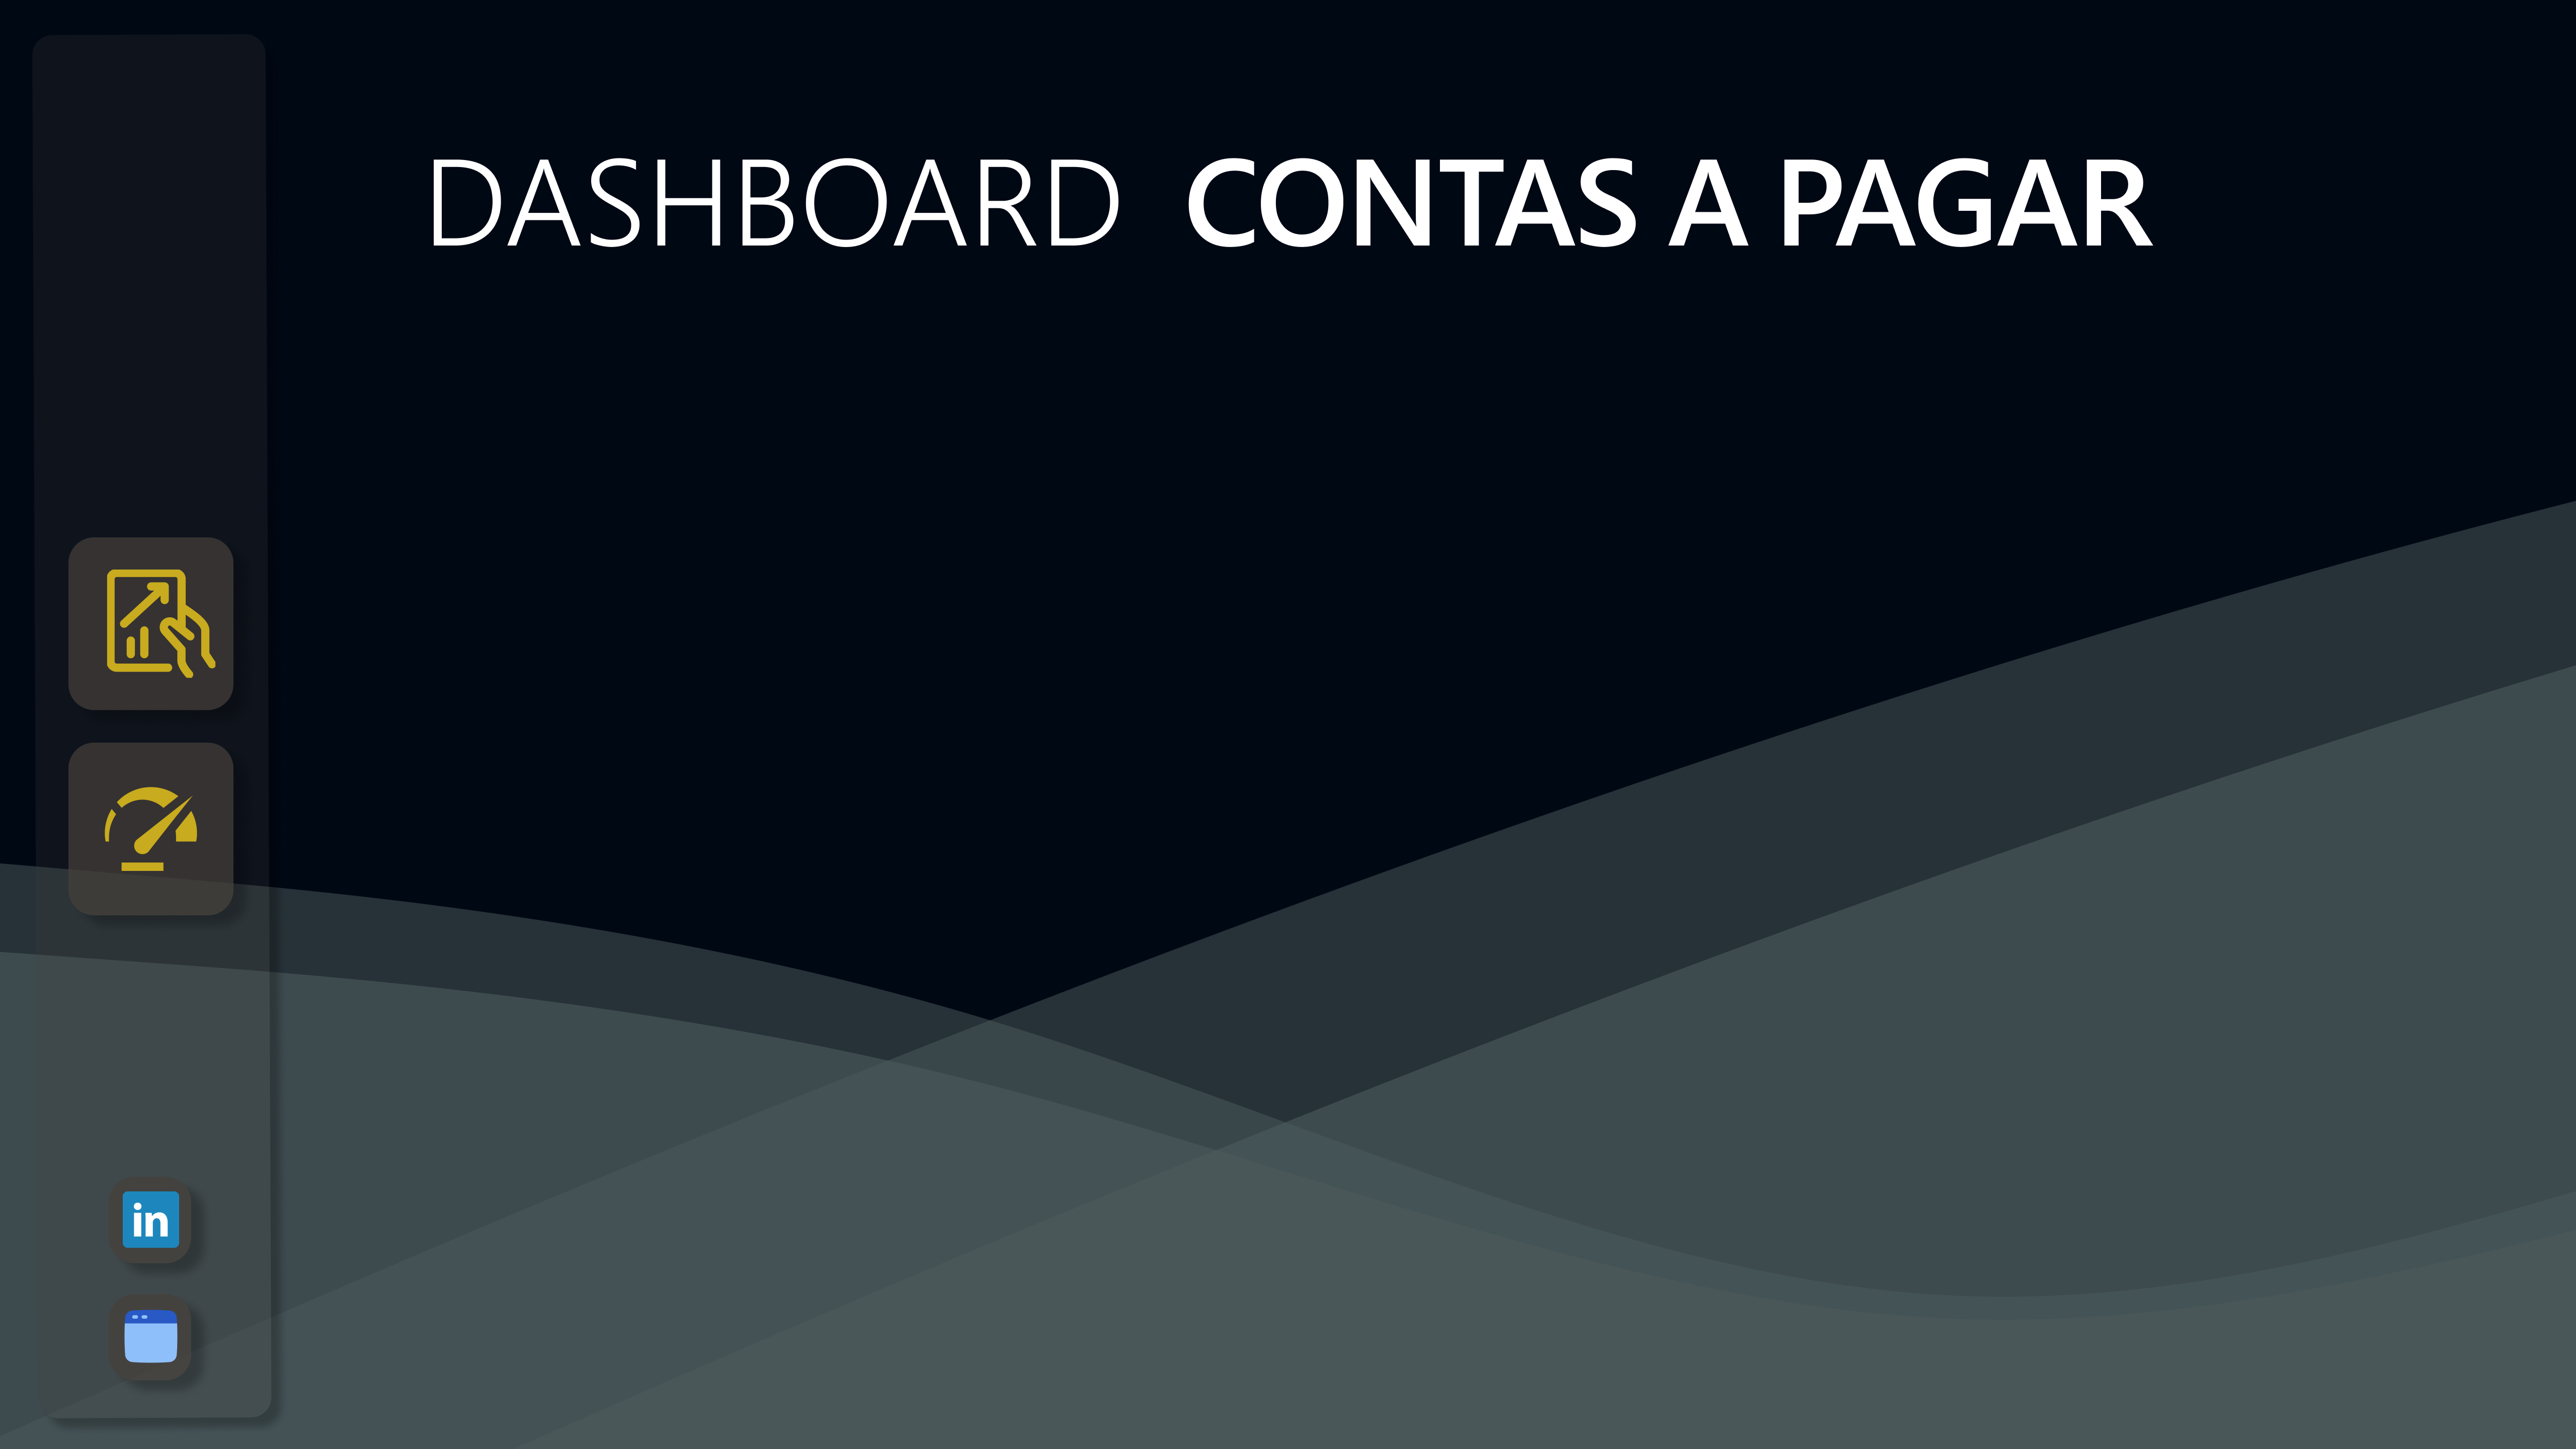

The page's visual inventory and layout, read from the dashboard file:
{"tool":"powerbi","page":{"name":"Home","canvas":[1280,720],"ordinal":0},"visuals":[{"type":"actionButton","box":[31.8,265.8,86.8,85.8],"z":0},{"type":"actionButton","box":[31.8,370.6,86.8,85.8],"z":1000},{"type":"actionButton","box":[53.1,584.4,43.1,45],"z":2000},{"type":"actionButton","box":[53.1,641.9,43.1,45],"z":3000}]}

Visuals, with their boxes in screenshot pixels (x1, y1, x2, y2), scaled from the page's 1280x720 canvas onto the 2576x1449 screenshot:
actionButton: Rect(64, 535, 238, 707)
actionButton: Rect(64, 746, 238, 919)
actionButton: Rect(107, 1176, 194, 1267)
actionButton: Rect(107, 1292, 194, 1383)
